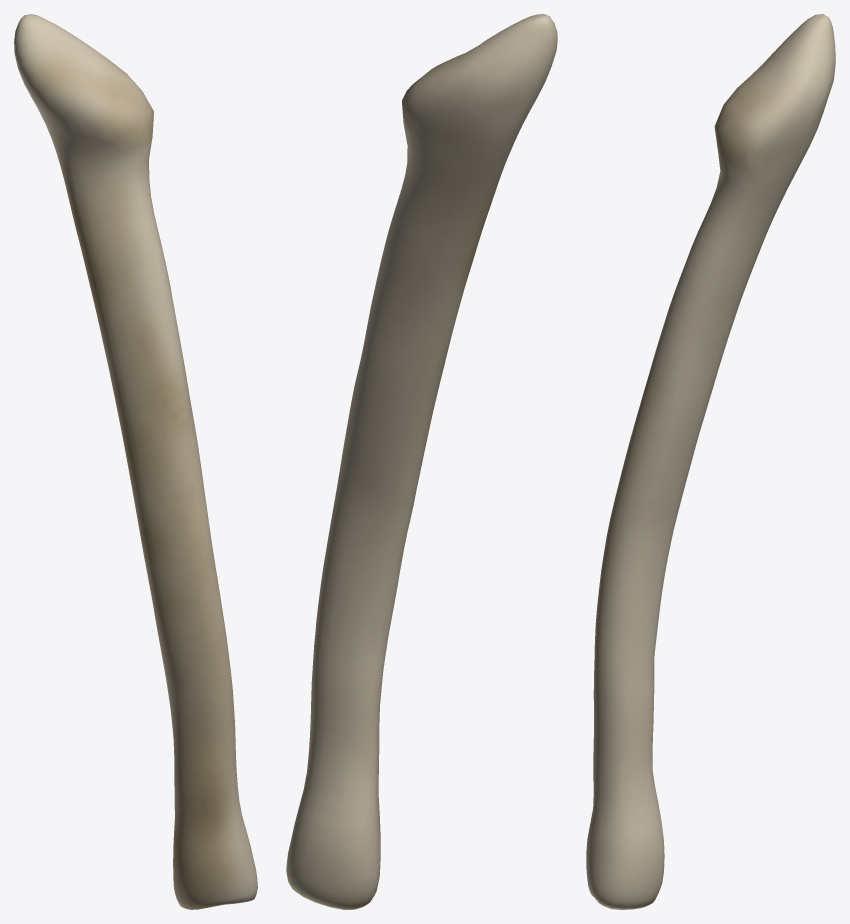
File: L metatarsi quintum.fbx
3 renders of one model, left to right at view 1: azimuth 30°, elevation 25°; view 2: azimuth 210°, elevation 25°; view 3: azimuth 270°, elevation 25°, orthographic. The views are drawn at different scales.
Visible parts, largest first — view 1: L metatarsi quintum; view 2: L metatarsi quintum; view 3: L metatarsi quintum.
Part boxes in pixels (x1,y1,x2,y2): L metatarsi quintum: [14, 14, 257, 909]; L metatarsi quintum: [286, 14, 557, 909]; L metatarsi quintum: [586, 14, 835, 909].
Size of the model in its own units: 3.22 by 18.37 by 4.9.
